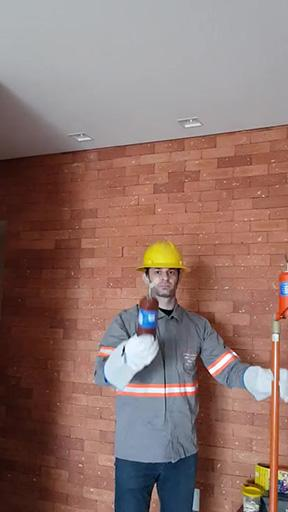Detector_Tensao_Contato: (136, 275, 160, 345)
Vara_Manobra: (269, 316, 281, 512)
